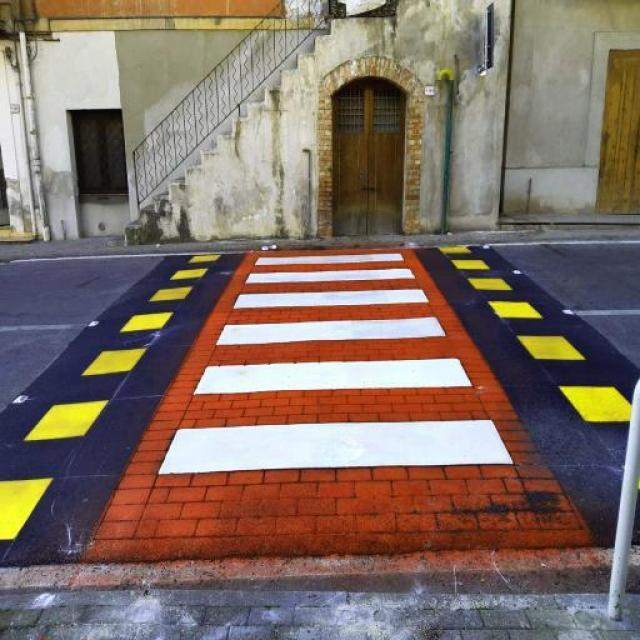crosswalk: (160, 244, 526, 478)
